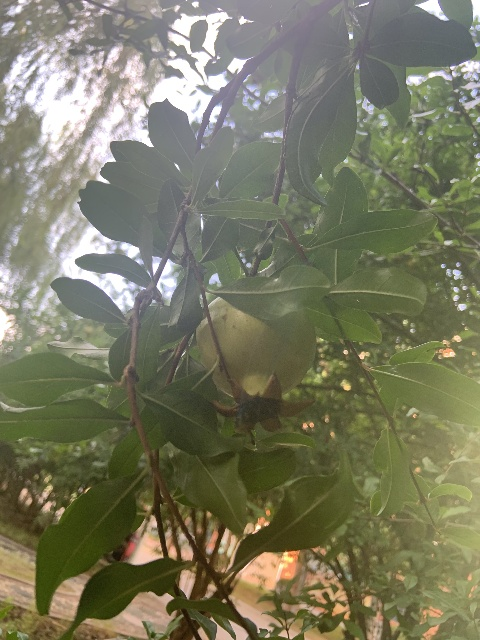mid-growth: (192, 296, 315, 431)
